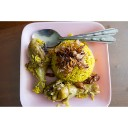briyani: (54, 43, 98, 80)
